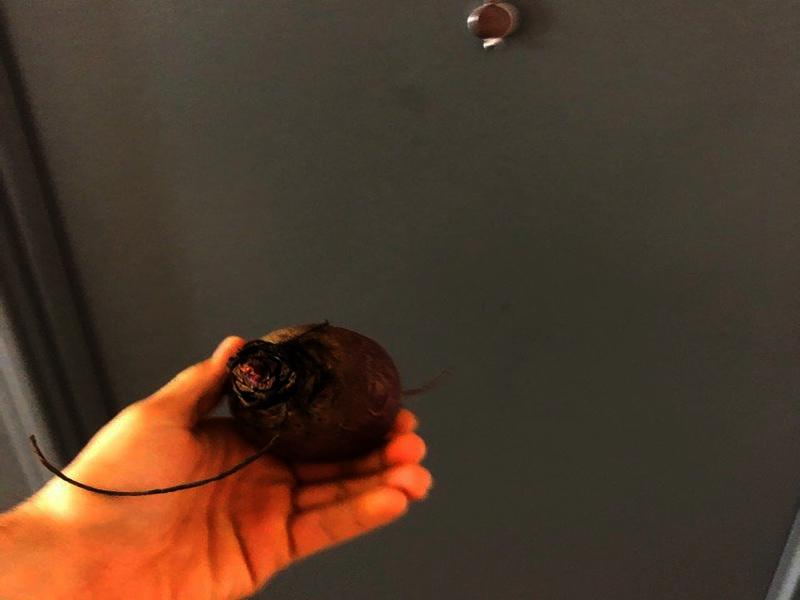Beet: (31, 324, 445, 497)
